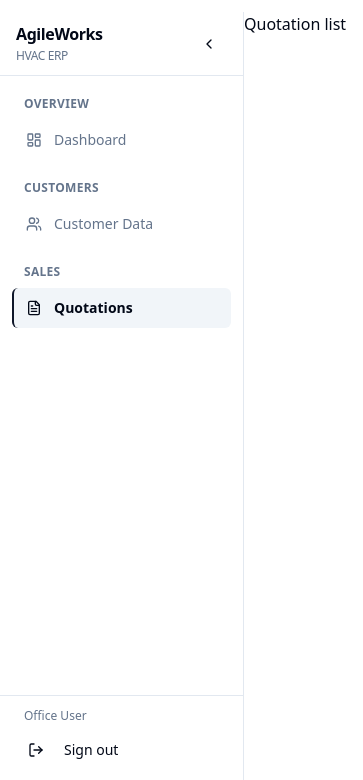
Scenario: MainNavigation › shows only permitted destinations and keeps the active page visible when collapsed
Click the button named "Collapse sidebar": (209, 44) [191, 26, 227, 62]
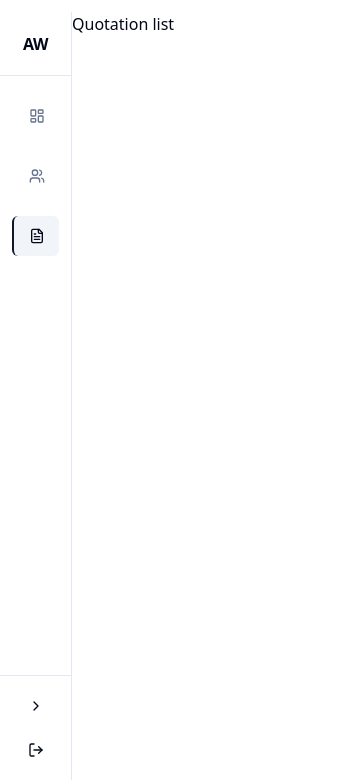
Expected: the button named "Expand sidebar" is shown, [12, 688, 59, 724]
